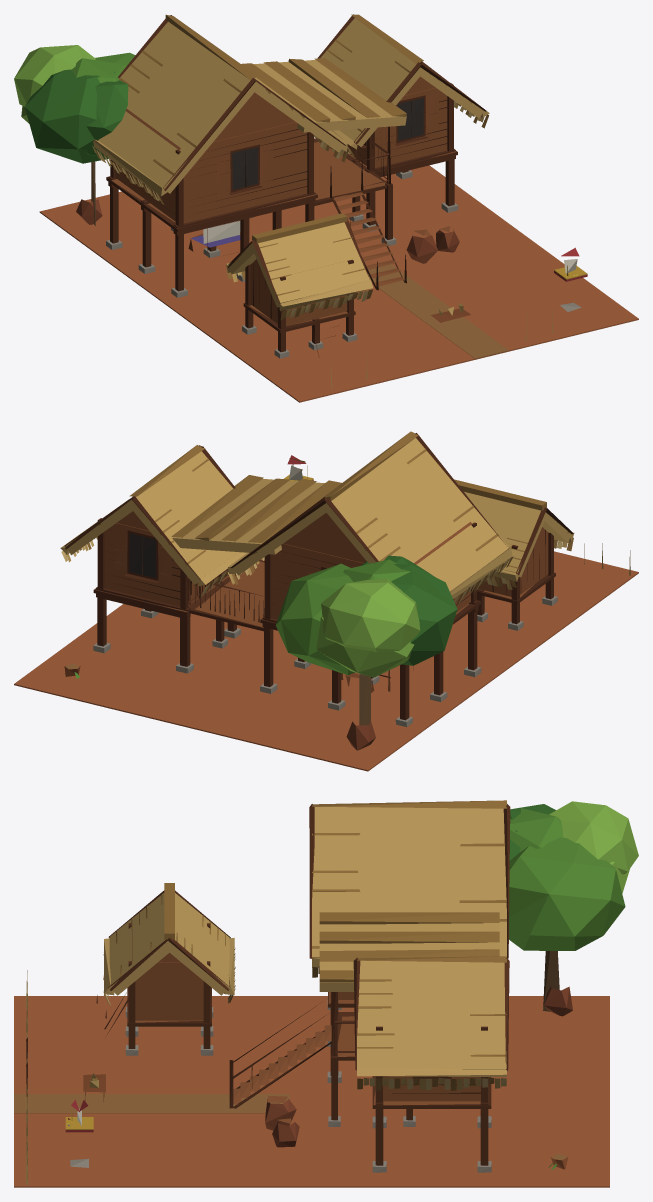
Rendered from house12_2.glb.
3 views of the same model, one above another, from view 1: azimuth 30°, elevation 25°; view 2: azimuth 150°, elevation 25°; view 3: azimuth 270°, elevation 25° (orthographic). The views are drawn at different scales.
Visible parts, largest first — view 1: body, windows; view 2: body, windows; view 3: body.
Boxes of the visible parts, x1,y1,x2,y2 form: body: (14,14,638,402); windows: (232,98,423,189); body: (14,431,638,771); windows: (129,533,323,577); body: (14,800,638,1187).
Bounding box in the file's own units: 13.49 × 7.3 × 16.67.
